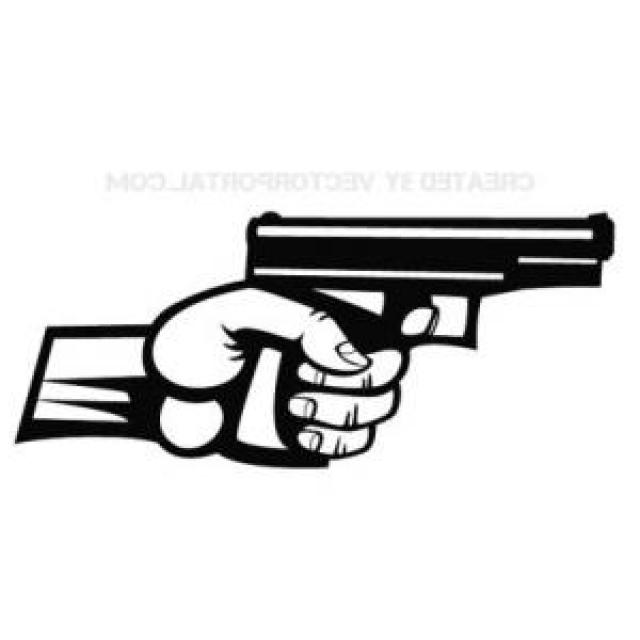pistol: (222, 213, 614, 475)
